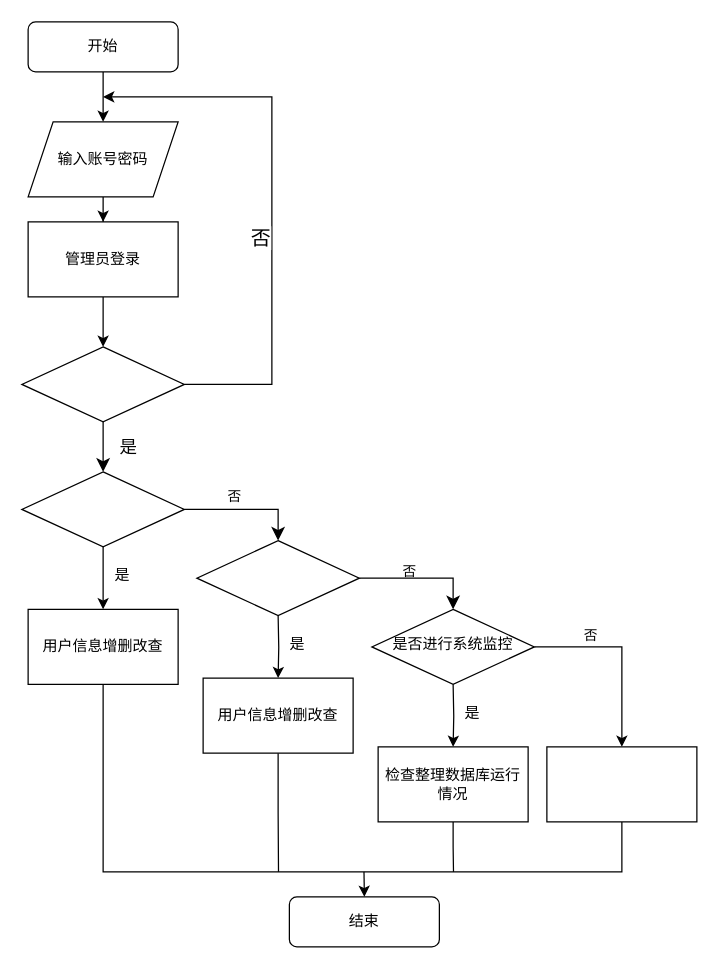
Image size: 719x969. Some labels were removed from this diagram. Each missing label, with the centre of its shape:
是否进行用户管理: [102,509]
是否进行系统维护: [277,577]
是否通过验证: [102,384]
退出系统: [621,784]
